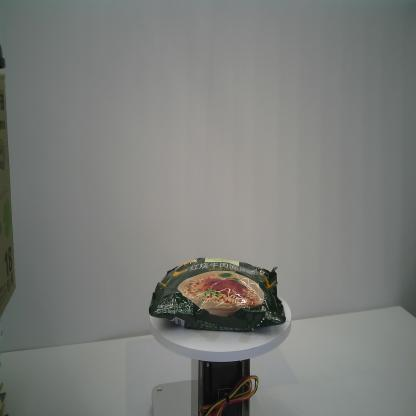Instant Noodles: (149, 257, 286, 333)
